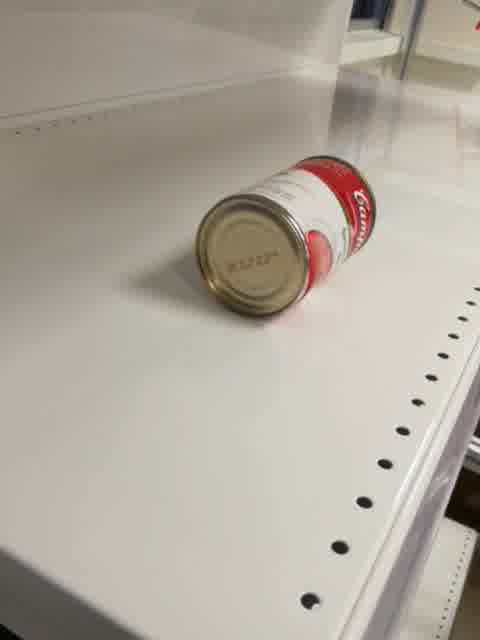tomatosoup: (192, 152, 379, 321)
